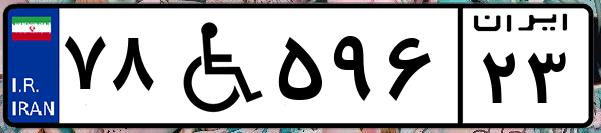2: (475, 38, 525, 113)
3: (525, 38, 570, 115)
5: (270, 28, 330, 110)
6: (385, 28, 445, 110)
7: (57, 26, 110, 100)
8: (110, 28, 158, 98)
9: (330, 28, 385, 110)
ژ (معلولین و جانبازان): (158, 12, 270, 120)
